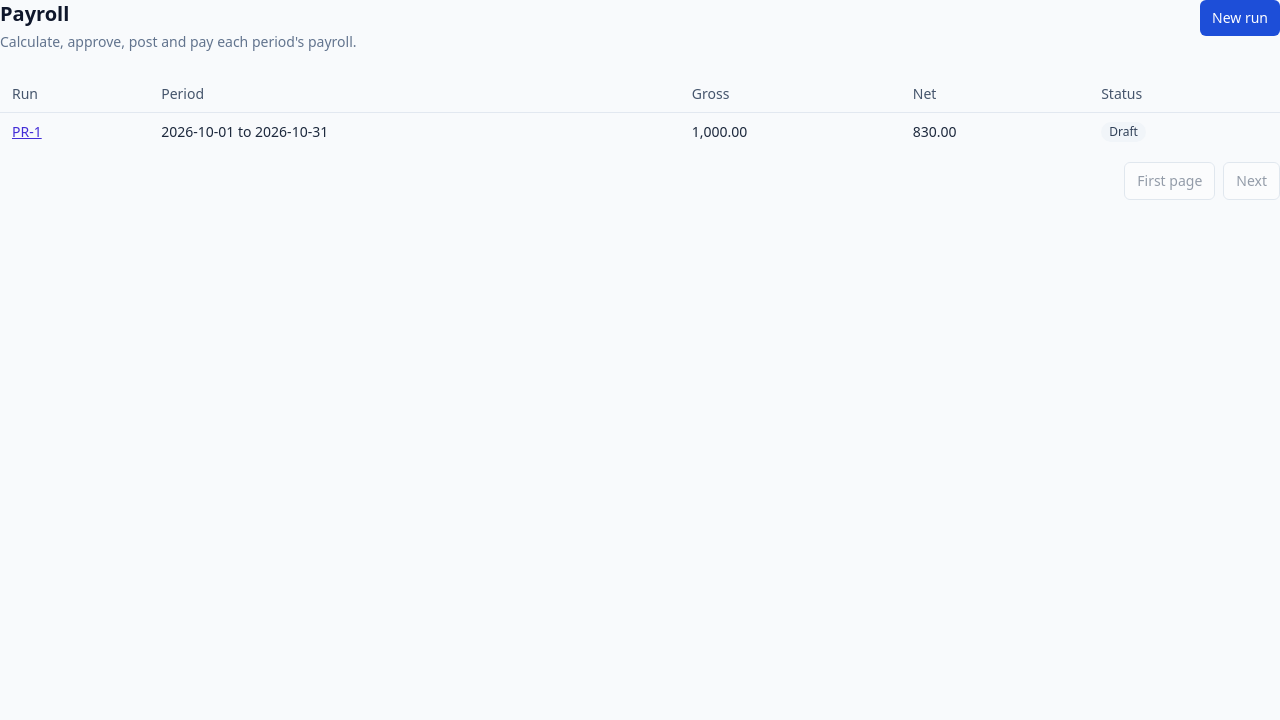
Test: PayrollPage › a draft run can be submitted by a preparer; approve is not offered
This screenshot has width=1280, height=720.
Later steps or results of the test are not shown.
Click the button "PR-1".
click(27, 132)  # box [12,122,42,142]
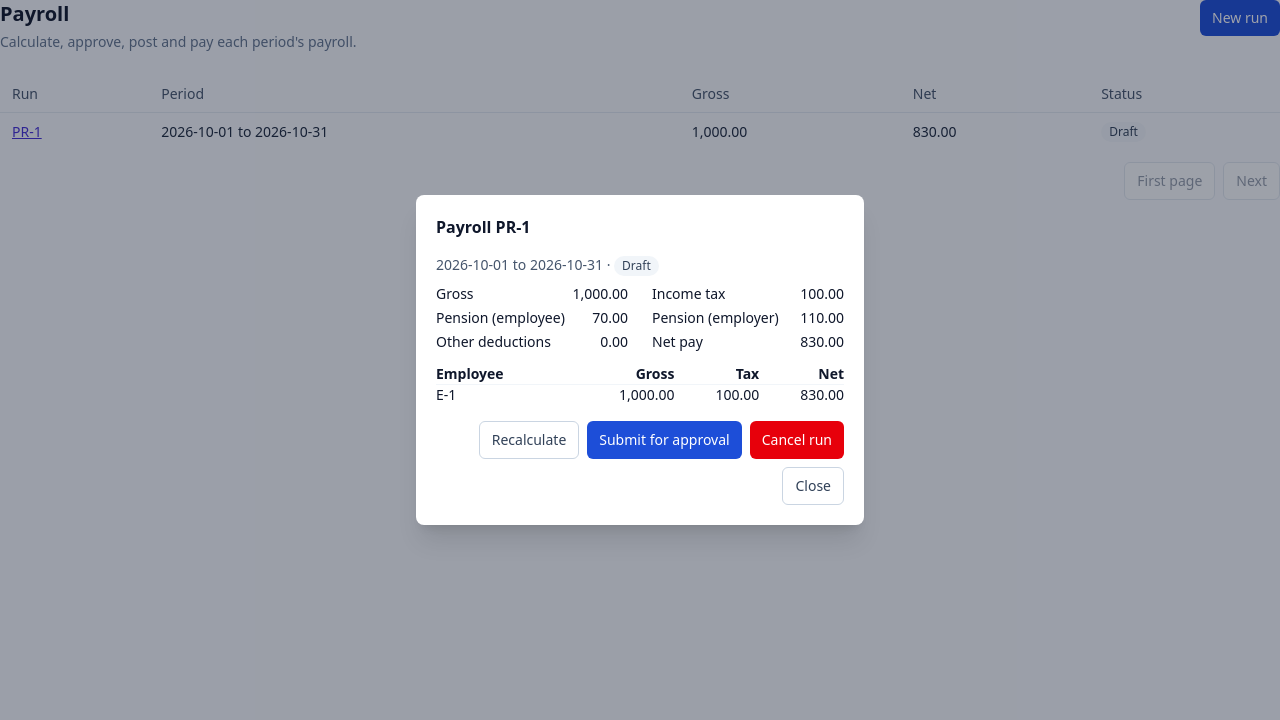
Expected: the text "E-1" is shown, [436,384,567,405]
